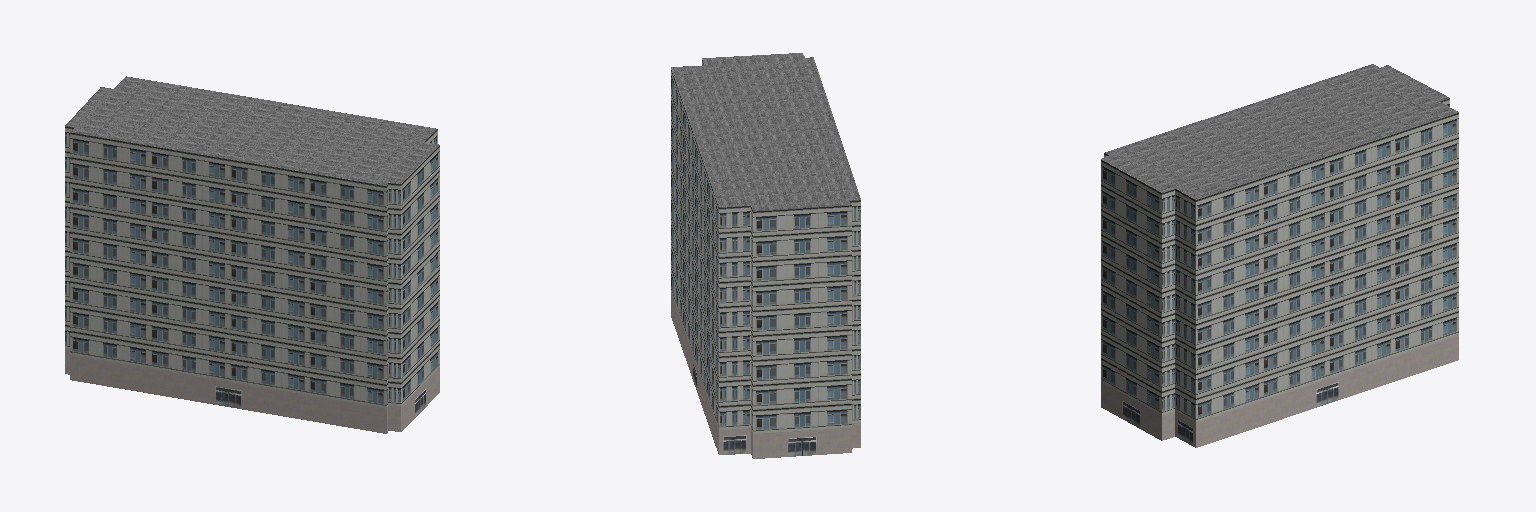
3 views of the same model, side by side, from view 1: azimuth 30°, elevation 25°; view 2: azimuth 150°, elevation 25°; view 3: azimuth 270°, elevation 25° (orthographic).
Visible parts, largest first — view 1: BuildingMaster_[number redacted]_0, BuildingMaster_[number redacted]_1; view 2: BuildingMaster_[number redacted]_0, BuildingMaster_[number redacted]_1; view 3: BuildingMaster_[number redacted]_0, BuildingMaster_[number redacted]_1.
Part boxes in pixels (x1,y1,x2,y2): BuildingMaster_[number redacted]_0: (65, 126, 439, 433); BuildingMaster_[number redacted]_1: (65, 76, 438, 185); BuildingMaster_[number redacted]_0: (671, 60, 860, 458); BuildingMaster_[number redacted]_1: (671, 53, 860, 210); BuildingMaster_[number redacted]_0: (1101, 98, 1458, 447); BuildingMaster_[number redacted]_1: (1101, 64, 1457, 199).
Bounding box in the file's own units: 41.19 × 35 × 45.86.
2 materials, 2 textured.